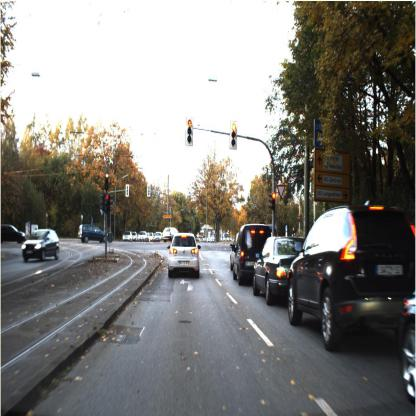other: (274, 180, 290, 204)
